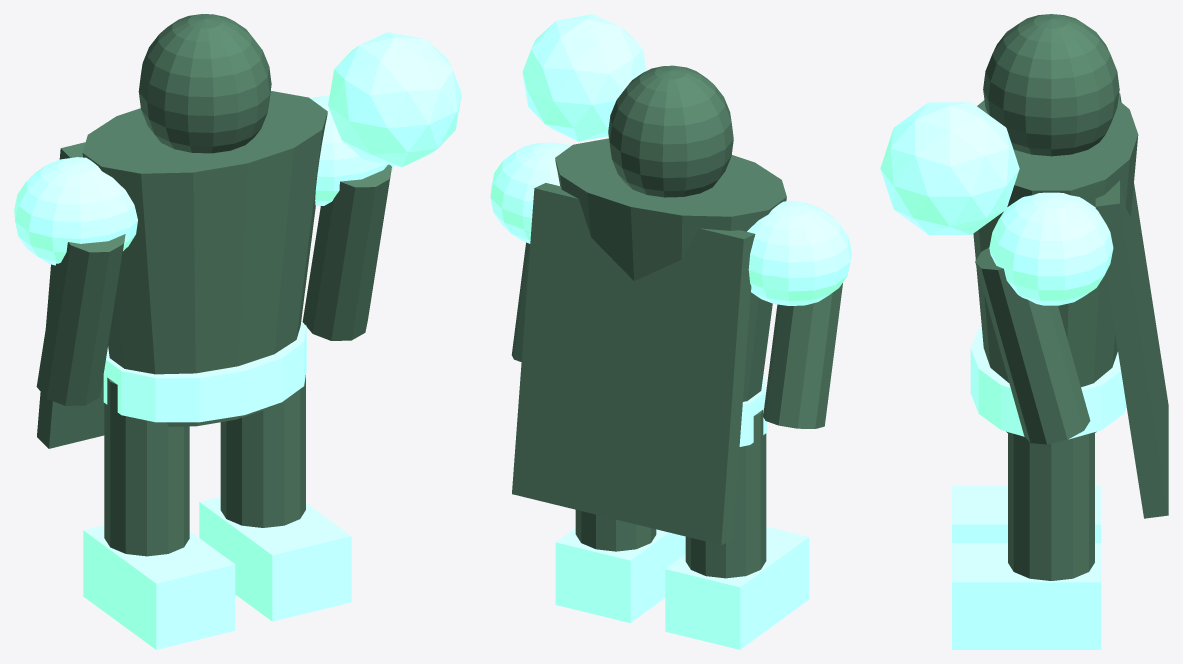
The model's file is enemy_blight_necrolyte.glb.
The picture shows the model from 3 angles, left to right: view 1: azimuth 30°, elevation 25°; view 2: azimuth 150°, elevation 25°; view 3: azimuth 270°, elevation 25°; orthographic projection. The views are drawn at different scales.
Parts seen in each view (by area): view 1: Cone, Sphere.002, Icosphere, Cube, Cube.001, Cylinder, Cylinder.003, Cylinder.004, Cylinder.002, Cylinder.001, Sphere, Cube.002 (+1 smaller); view 2: Cube.002, Cone, Sphere.002, Icosphere, Cube, Sphere, Cube.001, Cylinder.003, Cylinder, Sphere.001, Cylinder.001, Cylinder.002 (+1 smaller); view 3: Sphere.002, Icosphere, Cube.001, Cube.002, Cone, Cylinder.001, Cylinder.004, Sphere.001, Cylinder.002, Cube.
Part boxes in pixels (left/top/right/bottom): Cone: left=82, top=91, right=327, bottom=426; Sphere.002: left=138, top=14, right=271, bottom=153; Icosphere: left=328, top=32, right=461, bottom=167; Cube: left=83, top=525, right=235, bottom=649; Cube.001: left=199, top=496, right=351, bottom=621; Cylinder: left=104, top=377, right=189, bottom=556; Cylinder.003: left=36, top=234, right=125, bottom=405; Cylinder.004: left=302, top=164, right=391, bottom=340; Cylinder.002: left=103, top=322, right=306, bottom=422; Cylinder.001: left=220, top=375, right=305, bottom=527; Sphere: left=14, top=157, right=137, bottom=265; Cube.002: left=37, top=142, right=104, bottom=448; Cube.002: left=512, top=183, right=755, bottom=544; Cone: left=555, top=138, right=786, bottom=401; Sphere.002: left=608, top=65, right=733, bottom=197; Icosphere: left=522, top=14, right=646, bottom=141; Cube: left=665, top=526, right=809, bottom=649; Sphere: left=747, top=201, right=851, bottom=305; Cube.001: left=555, top=528, right=685, bottom=622; Cylinder.003: left=763, top=283, right=842, bottom=428; Cylinder: left=685, top=409, right=766, bottom=578; Sphere.001: left=490, top=142, right=570, bottom=243; Cylinder.001: left=575, top=510, right=656, bottom=551; Cylinder.002: left=739, top=375, right=766, bottom=446; Sphere.002: left=983, top=14, right=1119, bottom=156; Icosphere: left=880, top=102, right=1019, bottom=234; Cube.001: left=952, top=543, right=1100, bottom=649; Cube.002: left=1095, top=93, right=1168, bottom=518; Cone: left=973, top=100, right=1138, bottom=432; Cylinder.001: left=1008, top=432, right=1094, bottom=580; Cylinder.004: left=975, top=247, right=1090, bottom=444; Sphere.001: left=989, top=192, right=1113, bottom=305; Cylinder.002: left=970, top=326, right=1126, bottom=439; Cube: left=952, top=485, right=1100, bottom=542.
Size of the model in its own units: 1.41 by 2.03 by 0.9102.
